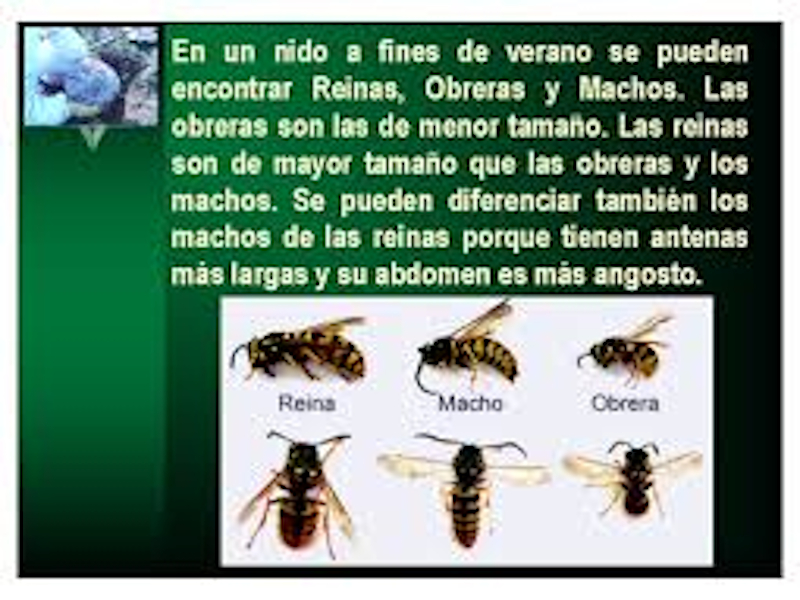chax: (376, 427, 537, 549), (240, 427, 359, 547), (568, 432, 698, 534), (408, 301, 537, 389), (234, 310, 380, 386), (566, 305, 682, 389)
